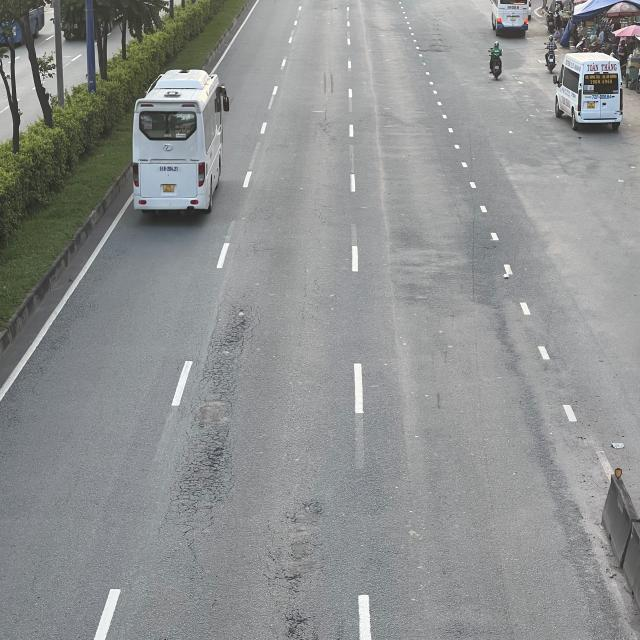coach: (132, 69, 230, 218)
van: (552, 52, 626, 130)
